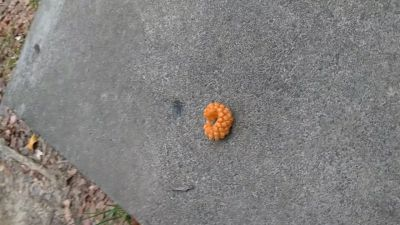eggs: (202, 100, 234, 142)
